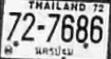2: (21, 11, 35, 40)
6: (61, 13, 74, 42), (90, 15, 102, 43)
7: (6, 11, 21, 40), (46, 13, 59, 42)
8: (75, 14, 88, 42)
NPT: (33, 44, 75, 58)
